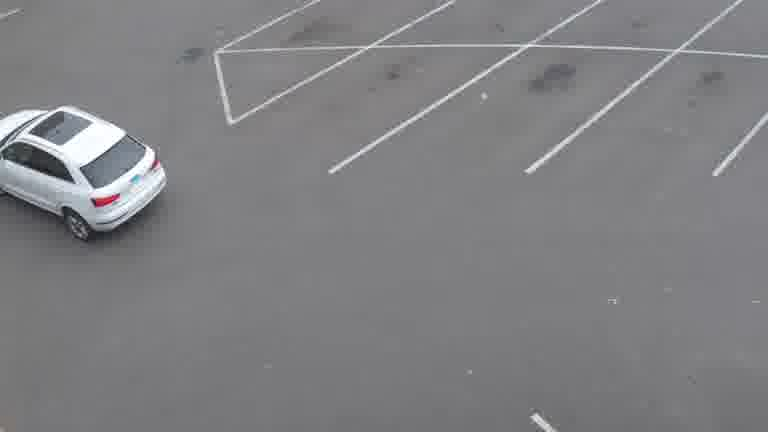person: (0, 103, 169, 241)
